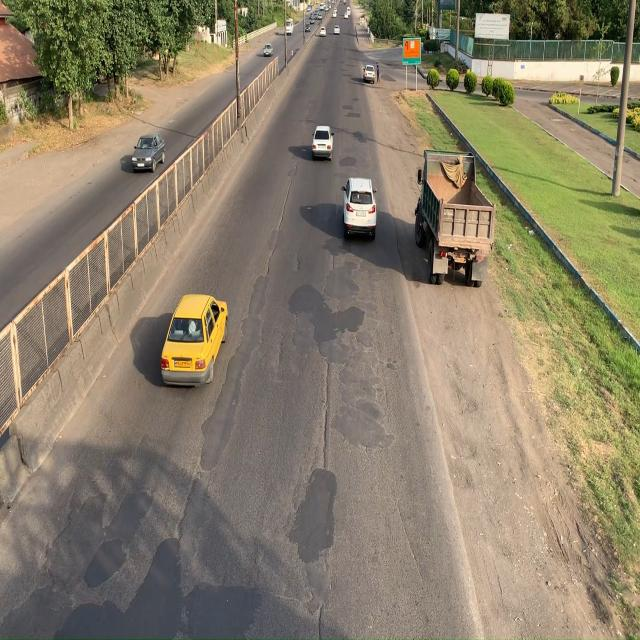Truck: (415, 148, 494, 286)
cars: (161, 294, 229, 388), (342, 174, 379, 242), (130, 132, 166, 173), (312, 120, 334, 160)
